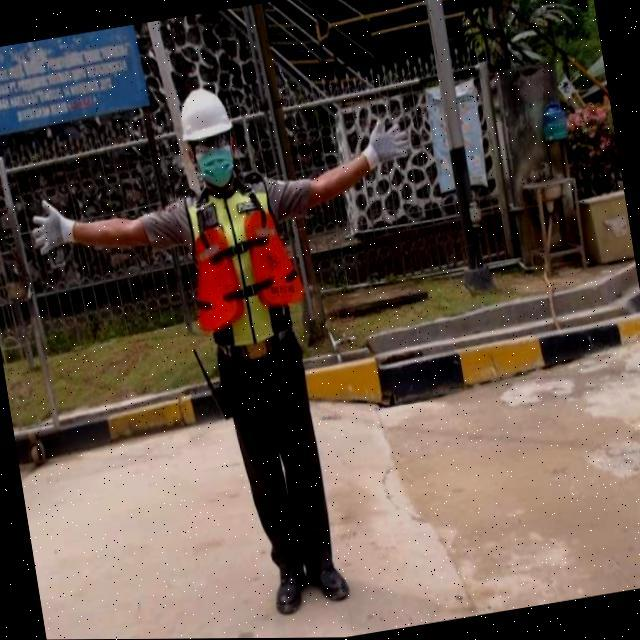goggles_on: (187, 127, 237, 153)
